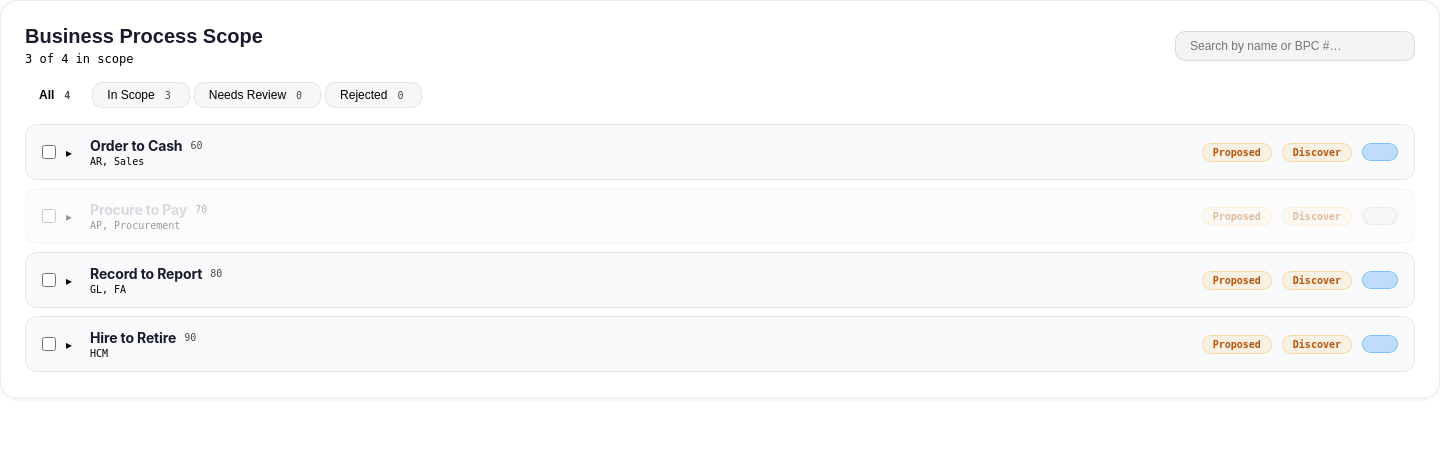
BusinessProcessPage Review UX › Bulk selection › shows action bar when items are selected
Click the checkbox with test id "checkbox-e1": (49, 152) x1=42 y1=145 x2=56 y2=159
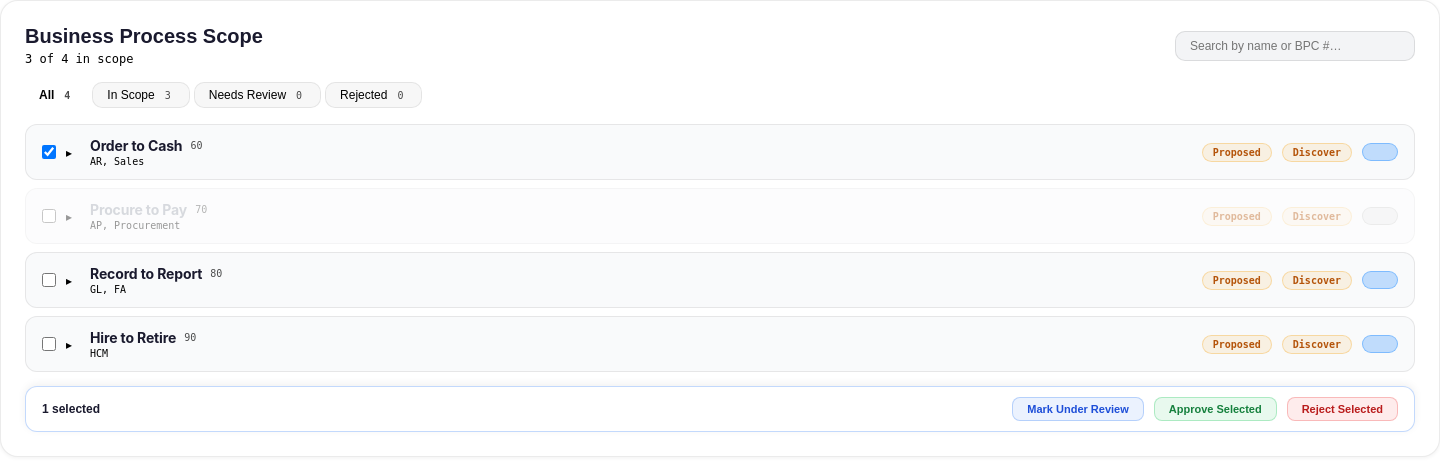
Check: the element with test id "bulk-action-bar" is shown, box x1=25 y1=386 x2=1415 y2=432
